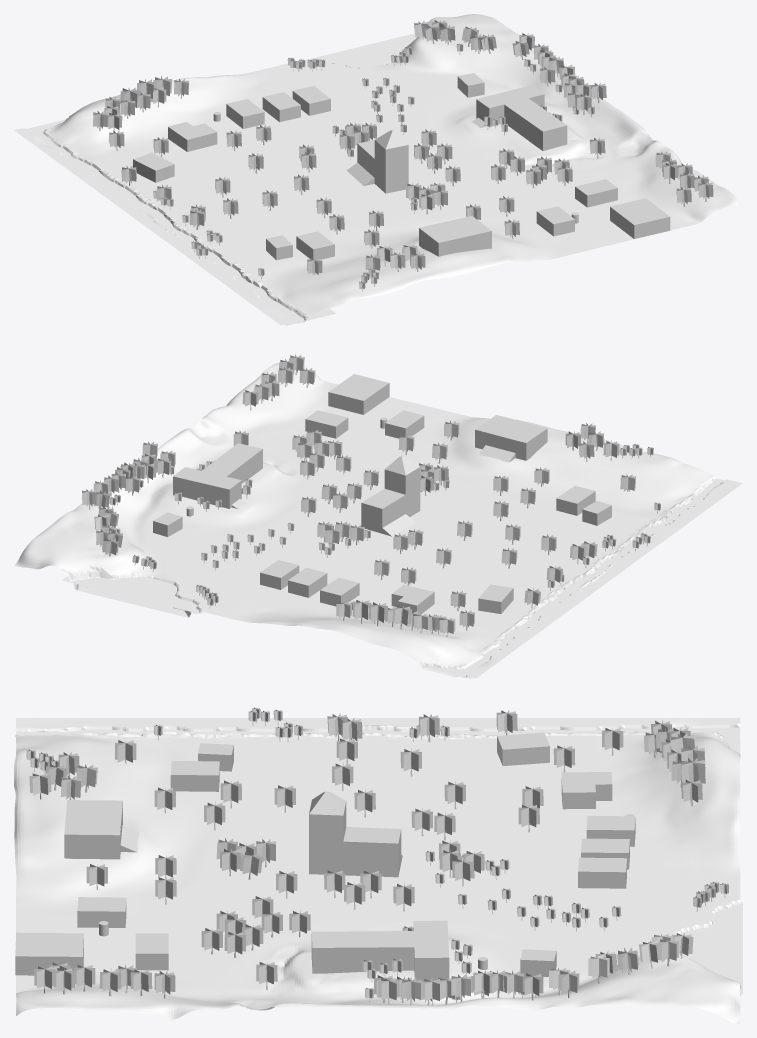
The model's file is village_terrain.glb.
3 views of the same model, one above another, from view 1: azimuth 30°, elevation 25°; view 2: azimuth 150°, elevation 25°; view 3: azimuth 270°, elevation 25° (orthographic). The views are drawn at different scales.
Visible parts, largest first — view 1: church; view 2: church; view 3: church.
Part boxes in pixels (box(x1,y1,x2,y2)): church: box(14, 14, 742, 325); church: box(14, 354, 742, 678); church: box(14, 707, 742, 1023).
Bounding box in the file's own units: 256 × 34.54 × 258.
Materials: 5 (2 with a texture image).
